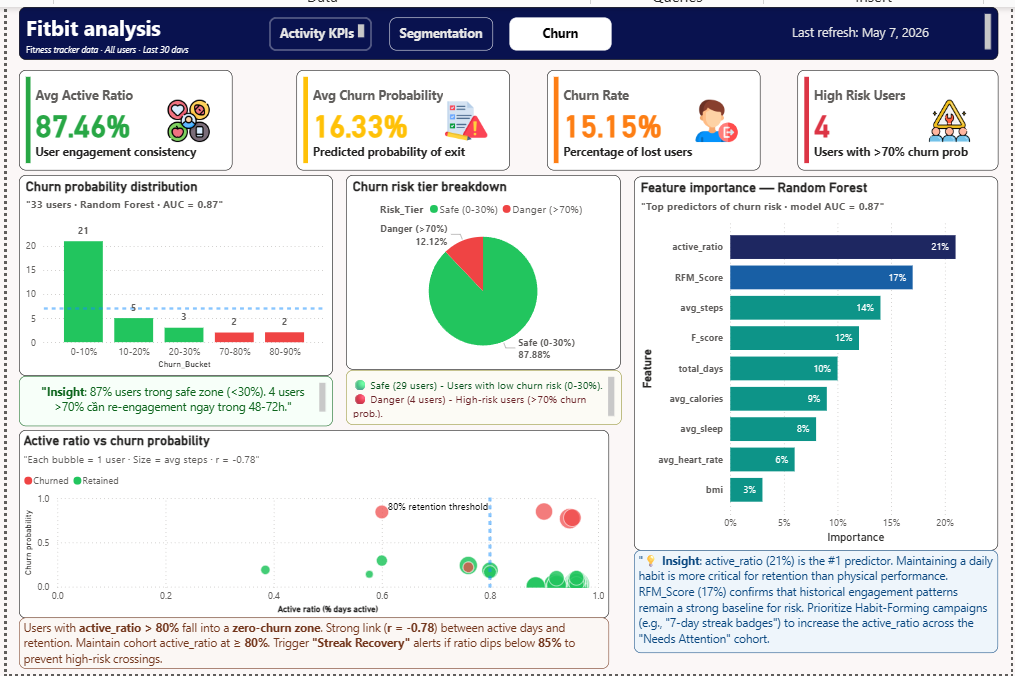

The dashboard page shown, as its layout file describes it:
{"tool":"powerbi","page":{"name":"Page 3: Churn ","canvas":[1280,850],"ordinal":2},"visuals":[{"type":"group","id":"g1","title":"Group 4","box":[16,0,1248,64],"z":0},{"type":"textbox","box":[16,0,1248,67],"z":0,"group":"g1"},{"type":"clusteredColumnChart","title":"Churn probability distribution","fields":{"Category":["churn_predictions.Churn_Bucket"],"Y":["Count(churn_predictions.Id)"]},"box":[16,214,400,256],"z":0,"group":"g2"},{"type":"clusteredBarChart","title":"Feature importance — Random Forest","fields":{"Category":["feature_importance.Feature"],"Y":["Sum(feature_importance.Importance)"]},"box":[800,216,464,476.5],"z":0,"group":"g3"},{"type":"scatterChart","title":"Active ratio vs churn probability","fields":{"Category":["churn_predictions.Id"],"X":["Avg(churn_predictions.active_ratio)"],"Y":["Avg(churn_predictions.Churn_Proba)"],"Size":["Avg(churn_predictions.avg_steps)"],"Series":["churn_predictions.Churn_Label"]},"box":[16,540,752,240],"z":0,"group":"g4"},{"type":"textbox","box":[336,13,130,42],"z":1000,"group":"g1"},{"type":"cardVisual","fields":{"Data":["master_dataset.Avg Active Ratio"]},"box":[16,80,272,128],"z":1000},{"type":"textbox","box":[16,470,400,64],"z":1000,"group":"g2"},{"type":"textbox","box":[800,692.5,464,131.5],"z":1000,"group":"g3"},{"type":"textbox","box":[16,778,752,65],"z":1000,"group":"g4"},{"type":"textbox","box":[488,13,132,42],"z":2000,"group":"g1"},{"type":"cardVisual","fields":{"Data":["master_dataset.Avg Churn Probability"]},"box":[368,80,272,128],"z":2000},{"type":"textbox","box":[642,13,130,42],"z":3000,"group":"g1"},{"type":"cardVisual","fields":{"Data":["master_dataset.Churn Rate"]},"box":[688,80,272,128],"z":3000},{"type":"textbox","box":[960,16,256,32],"z":4000,"group":"g1"},{"type":"cardVisual","fields":{"Data":["master_dataset.High Risk Users"]},"box":[1008,80,256,128],"z":4000},{"type":"image","box":[192,112,80,64],"z":5000},{"type":"image","box":[544,112,80,64],"z":6000},{"type":"image","box":[864,112,80,64],"z":7000},{"type":"image","box":[1152,112,96,64],"z":8000},{"type":"group","id":"g2","title":"Group 1","box":[16,214,400,320],"z":9000},{"type":"group","id":"g3","title":"Group 2","box":[800,216,464,608],"z":10000},{"type":"group","id":"g4","title":"Group 3","box":[16,540,752,303],"z":11000},{"type":"pieChart","title":"Churn risk tier breakdown","fields":{"Category":["churn_predictions.Risk_Tier"],"Y":["Count(churn_predictions.Id)"]},"box":[432,214,350,248],"z":12000},{"type":"textbox","box":[432,463,351,70],"z":13000}]}

Visuals, with their boxes on the page's 1280x850 design canvas (x1, y1, x2, y2). These are canvas units, not pixel positions in the 1015x676 screenshot, which may show the page scaled, cropped or inside an application window:
"Group 4" group: (16, 0, 1264, 64)
textbox: (16, 0, 1264, 67)
"Churn probability distribution" clusteredColumnChart: (16, 214, 416, 470)
"Feature importance — Random Forest" clusteredBarChart: (800, 216, 1264, 692)
"Active ratio vs churn probability" scatterChart: (16, 540, 768, 780)
textbox: (336, 13, 466, 55)
cardVisual - master_dataset.Avg Active Ratio: (16, 80, 288, 208)
textbox: (16, 470, 416, 534)
textbox: (800, 692, 1264, 824)
textbox: (16, 778, 768, 843)
textbox: (488, 13, 620, 55)
cardVisual - master_dataset.Avg Churn Probability: (368, 80, 640, 208)
textbox: (642, 13, 772, 55)
cardVisual - master_dataset.Churn Rate: (688, 80, 960, 208)
textbox: (960, 16, 1216, 48)
cardVisual - master_dataset.High Risk Users: (1008, 80, 1264, 208)
image: (192, 112, 272, 176)
image: (544, 112, 624, 176)
image: (864, 112, 944, 176)
image: (1152, 112, 1248, 176)
"Group 1" group: (16, 214, 416, 534)
"Group 2" group: (800, 216, 1264, 824)
"Group 3" group: (16, 540, 768, 843)
"Churn risk tier breakdown" pieChart: (432, 214, 782, 462)
textbox: (432, 463, 783, 533)
